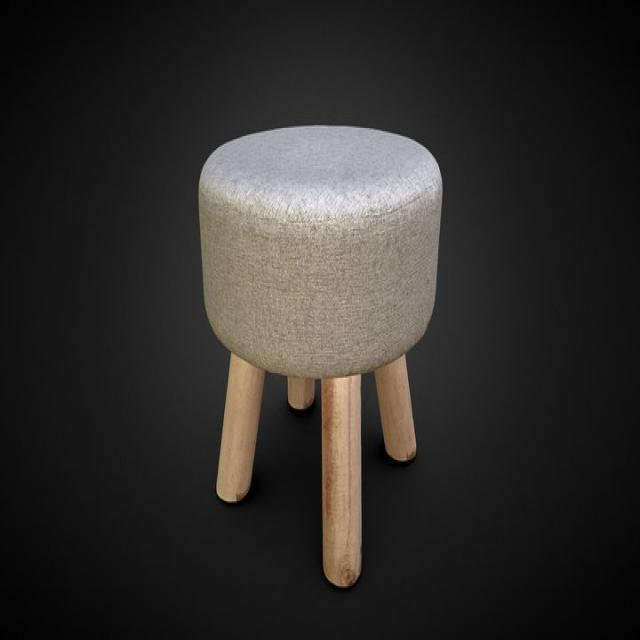table: (198, 127, 444, 588)
